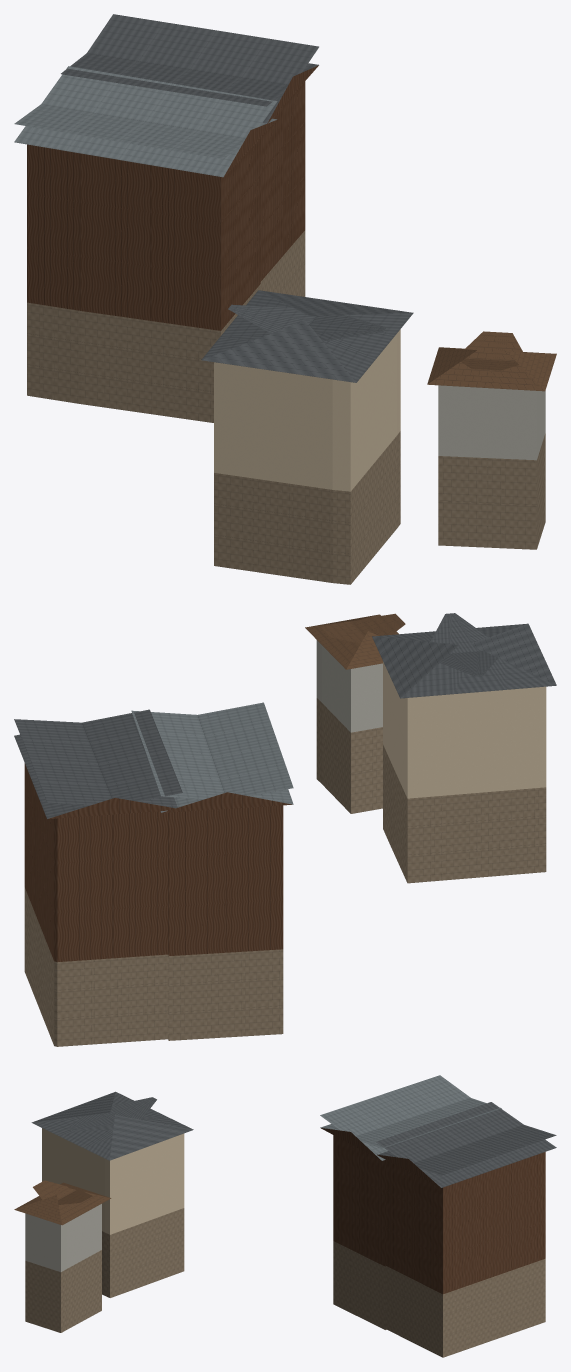
Rendered from bld_c10_11_493.gltf.
3 views of the same model, one above another, from view 1: azimuth 30°, elevation 25°; view 2: azimuth 150°, elevation 25°; view 3: azimuth 270°, elevation 25° (orthographic). The views are drawn at different scales.
Visible parts, largest first — view 1: bld_c10_11_493; view 2: bld_c10_11_493; view 3: bld_c10_11_493.
Boxes of the visible parts, x1,y1,x2,y2 form: bld_c10_11_493: (14,14,556,584); bld_c10_11_493: (14,613,556,1046); bld_c10_11_493: (14,1075,556,1357).
Size of the model in its own units: 20.5 by 15.1 by 39.59.
Materials: 8 (8 with a texture image).
